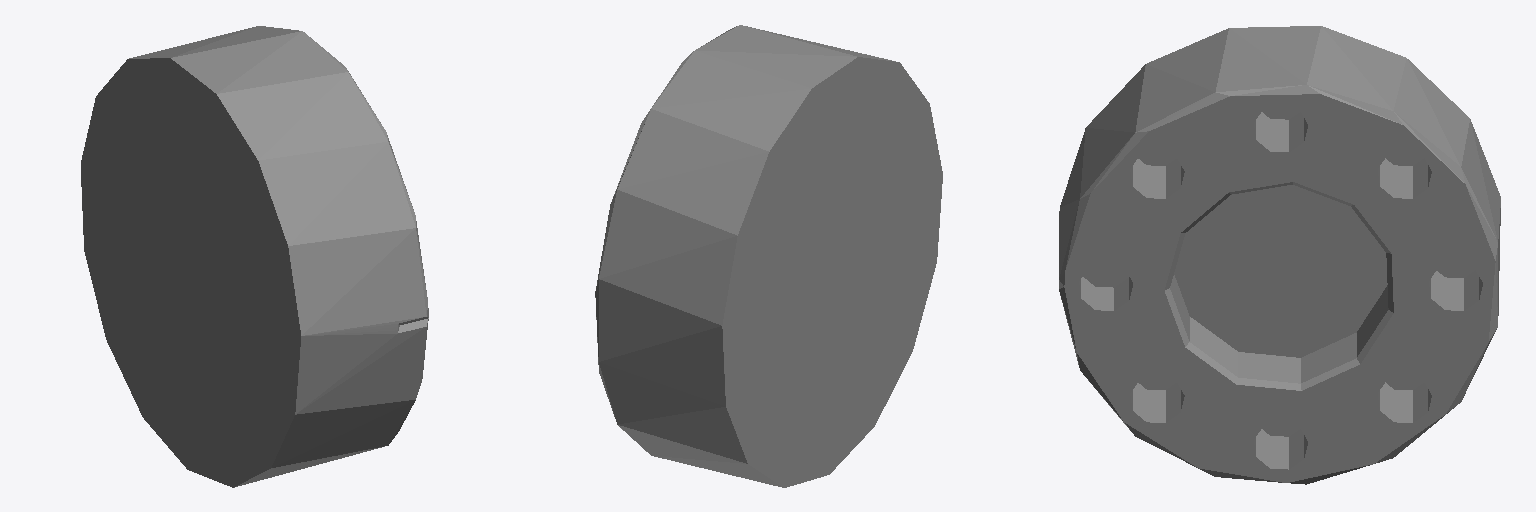
The model's file is kuka_7.obj.
The picture shows the model from 3 angles: view 1: azimuth 30°, elevation 25°; view 2: azimuth 150°, elevation 25°; view 3: azimuth 270°, elevation 25°; orthographic projection.
Parts seen in each view (by area): view 1: 实体1; view 2: 实体1; view 3: 实体1.
Boxes of the visible parts, box(x1,y1,x2,y2) form: 实体1: box(81, 26, 428, 487); 实体1: box(595, 25, 942, 487); 实体1: box(1059, 26, 1500, 484).
Size of the model in its own units: 13.5 by 39.86 by 39.83.